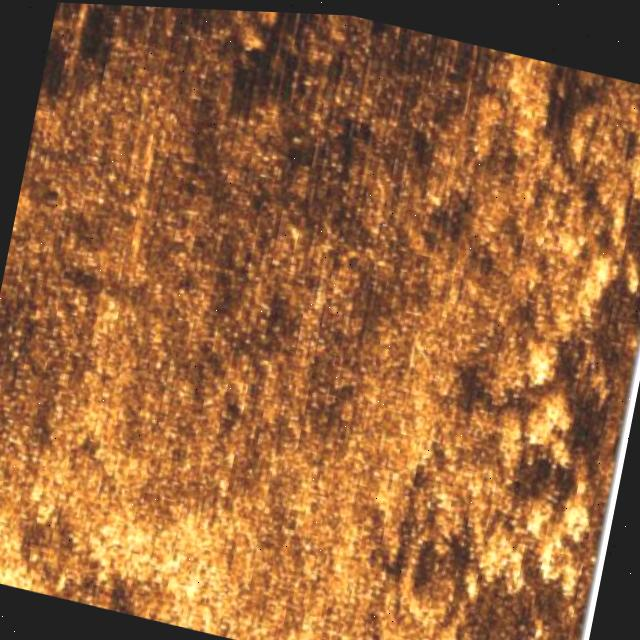bedrock group: (365, 41, 640, 640)
